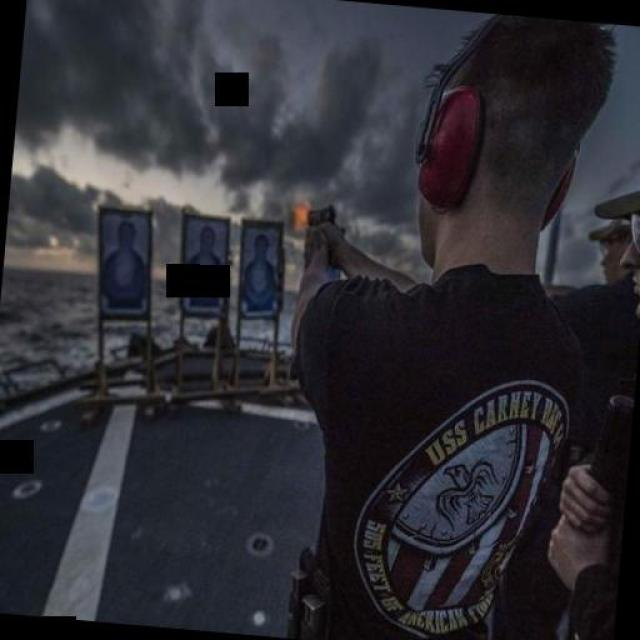gun: (299, 196, 340, 242)
